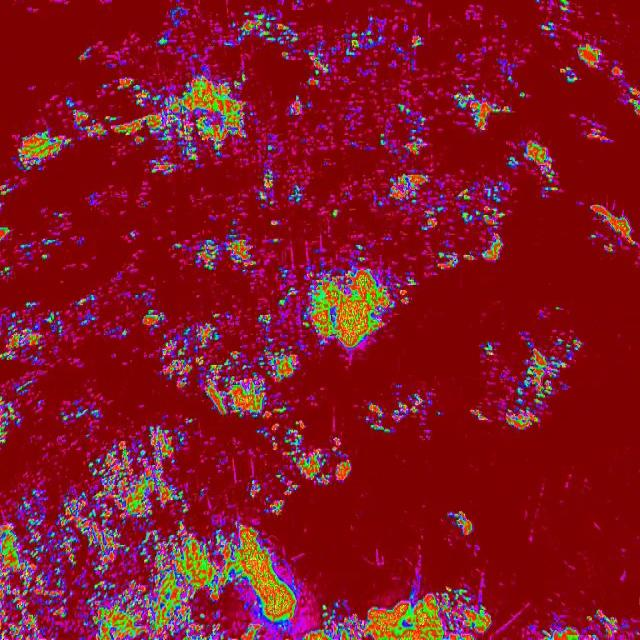fire: (0, 80, 297, 640), (77, 0, 640, 79), (384, 171, 510, 271), (482, 323, 584, 433), (298, 584, 496, 640), (304, 257, 415, 355), (297, 80, 430, 154), (359, 382, 446, 443), (504, 134, 559, 200), (526, 610, 640, 640), (296, 441, 358, 491), (449, 86, 509, 136), (589, 202, 640, 256), (568, 113, 616, 145), (449, 505, 478, 540), (617, 85, 640, 119)
